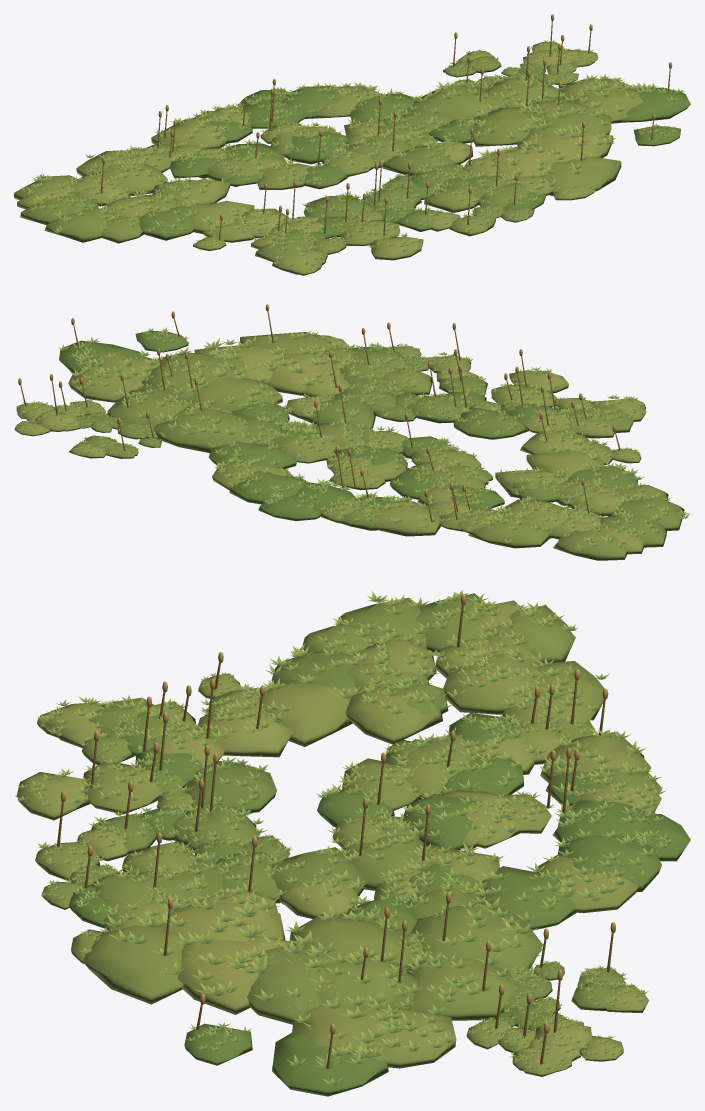
The picture shows the model from 3 angles, top to bottom: view 1: azimuth 30°, elevation 25°; view 2: azimuth 150°, elevation 25°; view 3: azimuth 270°, elevation 25°; orthographic projection. The views are drawn at different scales.
Parts seen in each view (by area): view 1: Leaves, Petals_and_pollen; view 2: Leaves, Petals_and_pollen; view 3: Leaves, Petals_and_pollen.
Boxes of the visible parts, x1,y1,x2,y2 form: Leaves: [14, 41, 690, 275]; Petals_and_pollen: [21, 14, 684, 270]; Leaves: [14, 331, 684, 560]; Petals_and_pollen: [15, 304, 690, 551]; Leaves: [16, 593, 690, 1096]; Petals_and_pollen: [14, 589, 675, 1085].
Size of the model in its own units: 2.22 by 0.1989 by 1.28.
